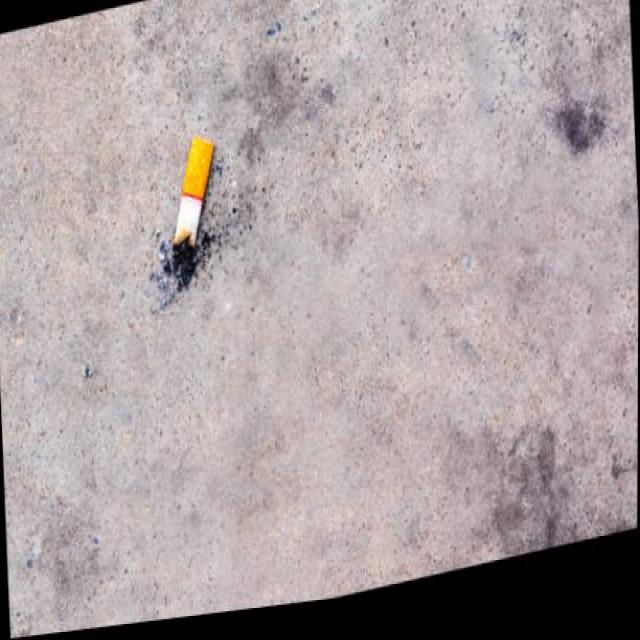cigarette: (169, 136, 218, 258)
